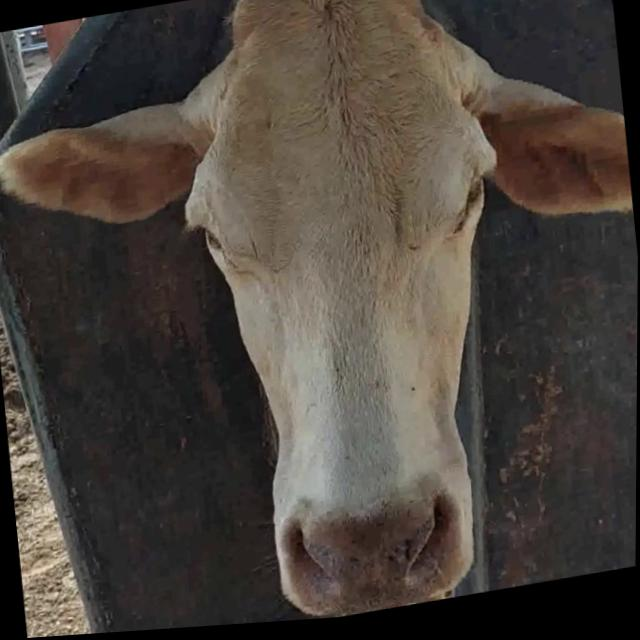cowFace: (161, 0, 532, 631)
